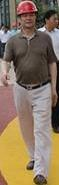boots: (26, 160, 34, 170), (0, 124, 7, 131)
hard-hat: (0, 68, 8, 82)
